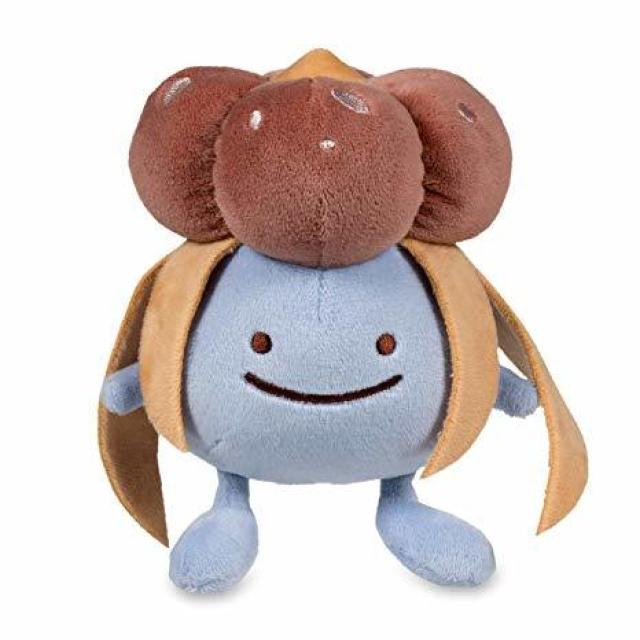Gloom: (74, 36, 545, 541)
